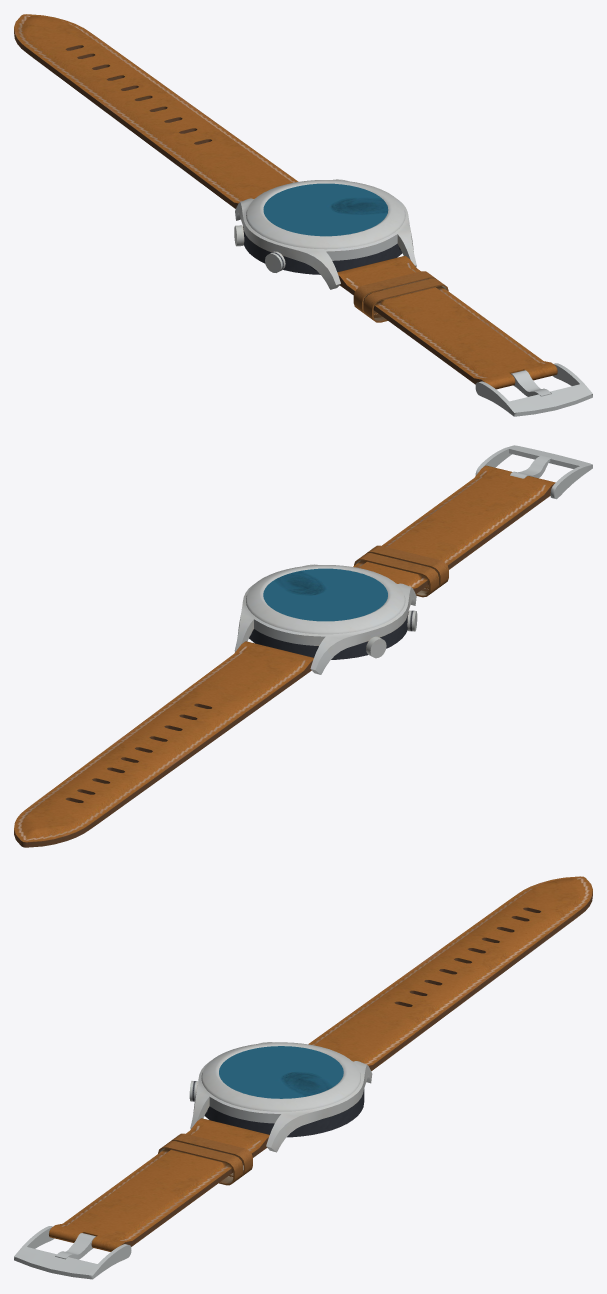
The picture shows the model from 3 angles, top to bottom: view 1: azimuth 30°, elevation 25°; view 2: azimuth 150°, elevation 25°; view 3: azimuth 330°, elevation 25°; orthographic projection.
Visible parts, largest first — view 1: belts_lp, top_lp1, locked_lp, mini_belts_lp, body_lp, bottoms_lp, mini_metall_lp; view 2: belts_lp, top_lp1, mini_belts_lp, locked_lp, body_lp, bottoms_lp; view 3: belts_lp, top_lp1, locked_lp, mini_belts_lp, body_lp, mini_metall_lp.
Boxes of the visible parts, x1,y1,x2,y2 form: belts_lp: (14, 14, 557, 389); top_lp1: (235, 179, 416, 289); locked_lp: (475, 363, 592, 416); mini_belts_lp: (353, 271, 448, 322); body_lp: (243, 227, 402, 274); bottoms_lp: (234, 225, 285, 272); mini_metall_lp: (511, 370, 551, 396); belts_lp: (14, 465, 555, 847); top_lp1: (234, 564, 416, 674); mini_belts_lp: (354, 545, 448, 597); locked_lp: (475, 445, 592, 499); body_lp: (249, 611, 408, 659); bottoms_lp: (366, 610, 417, 658); belts_lp: (49, 876, 592, 1251); top_lp1: (190, 1042, 372, 1152); locked_lp: (14, 1226, 131, 1279); mini_belts_lp: (158, 1133, 252, 1185); body_lp: (204, 1089, 364, 1137); mini_metall_lp: (55, 1233, 95, 1259).
Bounding box in the file's own units: 2.04 × 0.5997 × 12.86.
Materials: 1 (1 with a texture image).
